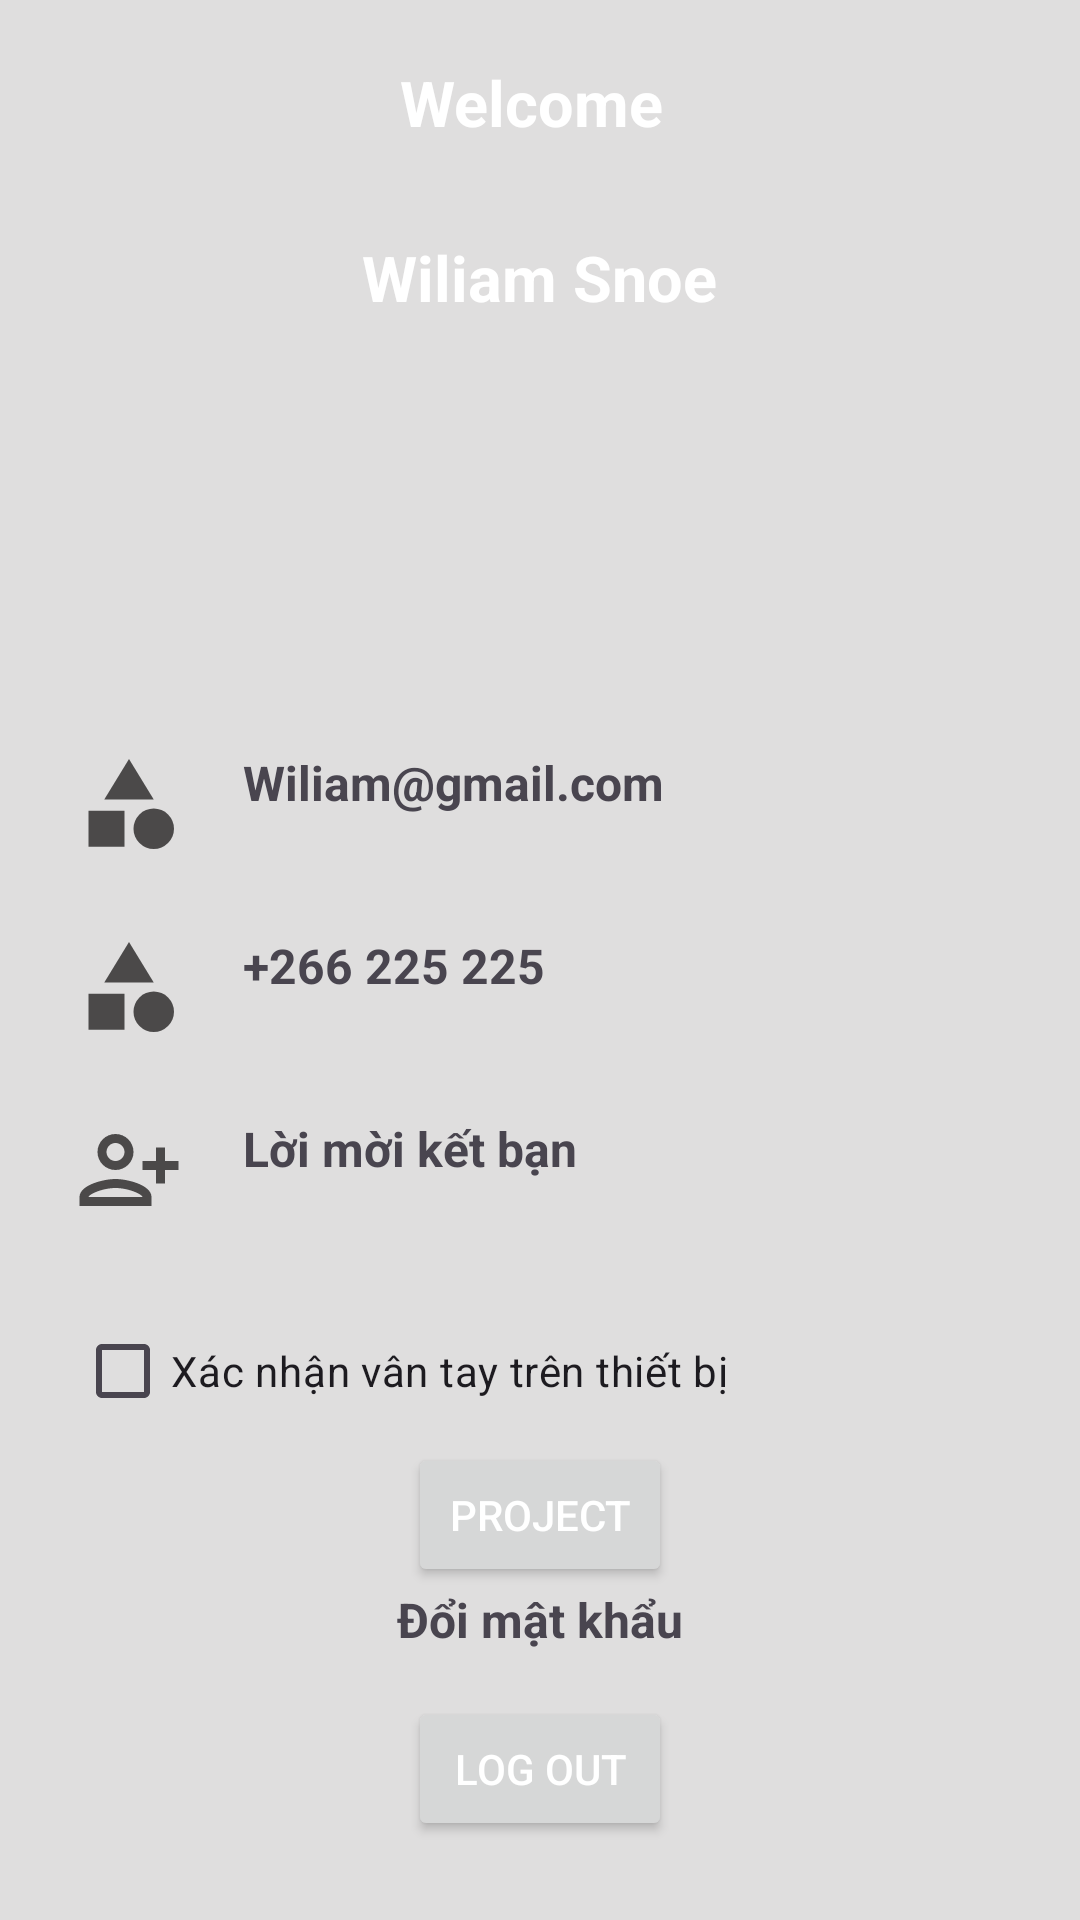

Icons on this 1080*1920 Android screen, each with the point to tap as (x=x, y=y):
category: (x=131, y=804), (x=131, y=987)
friend: (x=129, y=1170)
